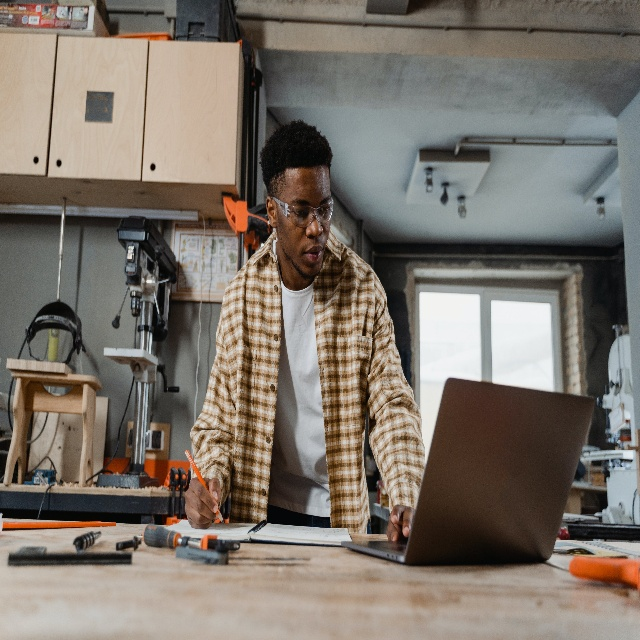Gafas: (279, 197, 334, 227)
Sin_guantes: (183, 477, 220, 528), (386, 505, 414, 543)
